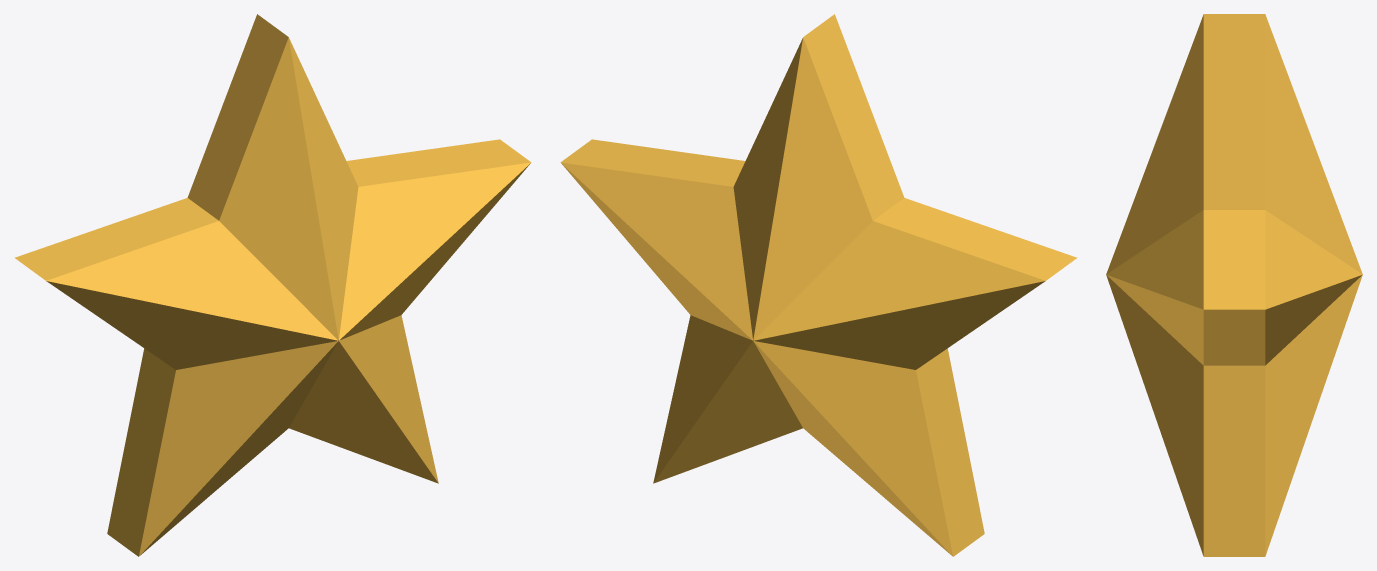
Rendered from StarBall.obj.
3 views of the same model, side by side, from view 1: azimuth 30°, elevation 25°; view 2: azimuth 150°, elevation 25°; view 3: azimuth 270°, elevation 25° (orthographic). The views are drawn at different scales.
Visible parts, largest first — view 1: StarBall; view 2: StarBall; view 3: StarBall.
Boxes of the visible parts, bbox=[...] form: StarBall: bbox=[14, 14, 531, 556]; StarBall: bbox=[560, 14, 1077, 556]; StarBall: bbox=[1106, 14, 1362, 556].
Bounding box in the file's own units: 2.13 × 2.03 × 1.
